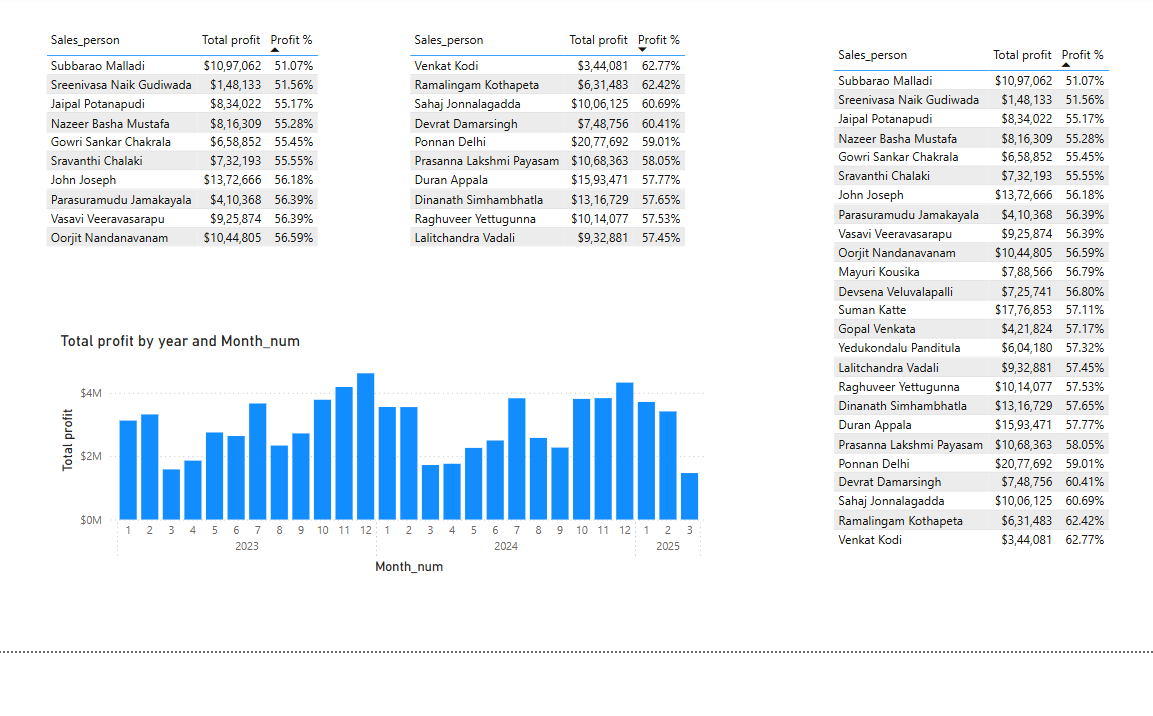

The page's visual inventory and layout, read from the dashboard file:
{"tool":"powerbi","page":{"name":"Page 5","canvas":[1280,720],"ordinal":4},"visuals":[{"type":"tableEx","fields":{"Values":["people.Sales_person","shipments.Total profit","shipments.Profit %"]},"box":[48,32,336,272],"z":0},{"type":"clusteredColumnChart","fields":{"Category":["calendar.year","calendar.Month_num"],"Y":["shipments.Total profit"]},"box":[64,368,720,272],"z":1000},{"type":"tableEx","fields":{"Values":["people.Sales_person","shipments.Total profit","shipments.Profit %"]},"box":[912,48,336,592],"z":2000},{"type":"tableEx","fields":{"Values":["people.Sales_person","shipments.Total profit","shipments.Profit %"]},"box":[448,32,336,272],"z":3000}]}

Visuals, with their boxes on the page's 1280x720 design canvas (x1, y1, x2, y2). These are canvas units, not pixel positions in the 1153x716 screenshot, which may show the page scaled, cropped or inside an application window:
tableEx - people.Sales_person x shipments.Total profit: l=48, t=32, r=384, b=304
clusteredColumnChart - calendar.year x calendar.Month_num: l=64, t=368, r=784, b=640
tableEx - people.Sales_person x shipments.Total profit: l=912, t=48, r=1248, b=640
tableEx - people.Sales_person x shipments.Total profit: l=448, t=32, r=784, b=304
